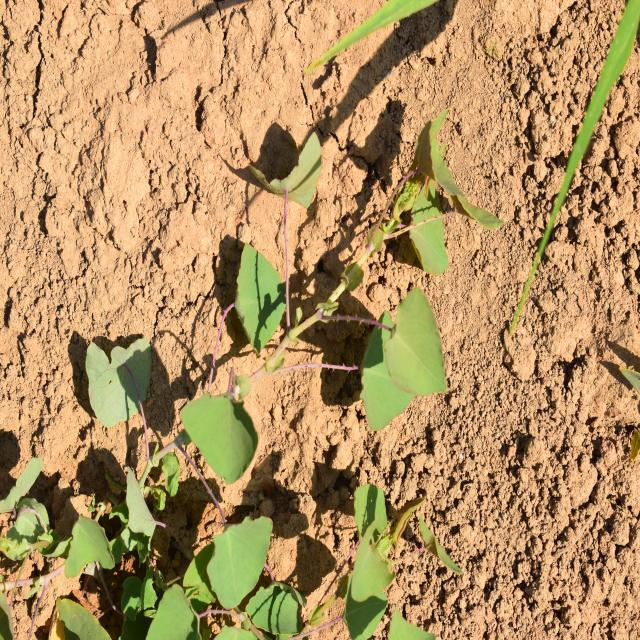Asiatic_Smartweed: (356, 114, 498, 449), (144, 382, 286, 603)
